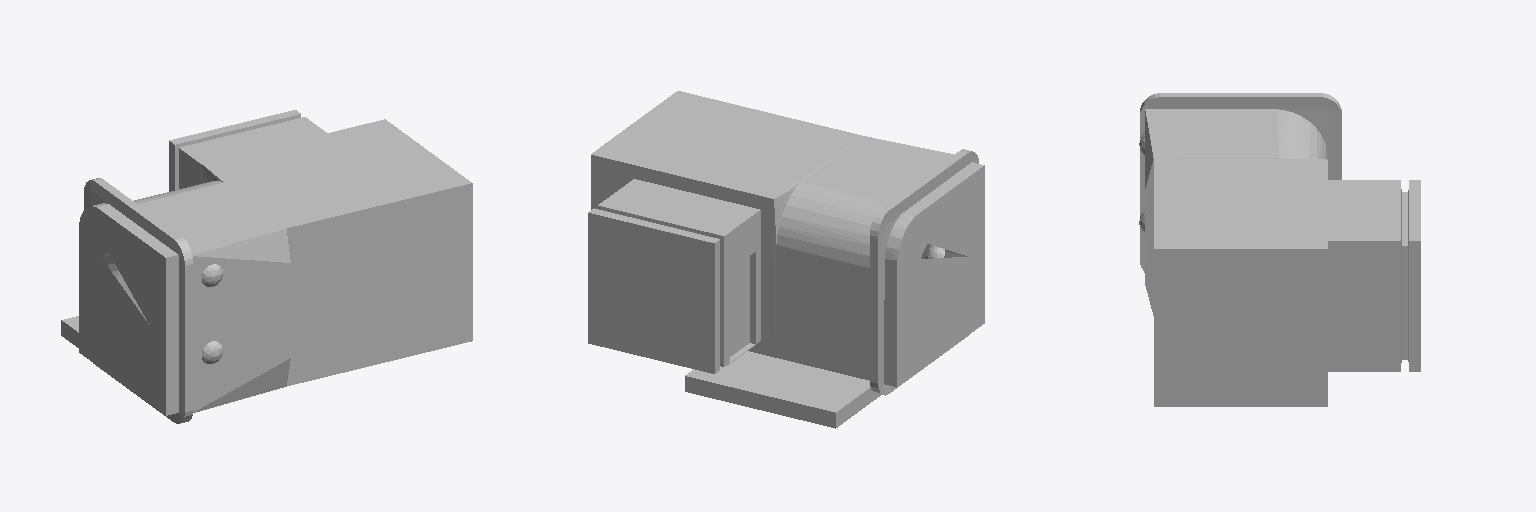
Rendered from simple_celle_unwrapped.obj.
3 renders of one model, left to right at view 1: azimuth 30°, elevation 25°; view 2: azimuth 150°, elevation 25°; view 3: azimuth 270°, elevation 25°, orthographic.
Visible parts, largest first — view 1: Cube_Cube.001; view 2: Cube_Cube.001; view 3: Cube_Cube.001.
Part boxes in pixels (left/top/right/bottom): Cube_Cube.001: left=61, top=110, right=472, bottom=423; Cube_Cube.001: left=588, top=91, right=984, bottom=428; Cube_Cube.001: left=1139, top=93, right=1420, bottom=406.
Bounding box in the file's own units: 4.06 × 2.38 × 3.22.